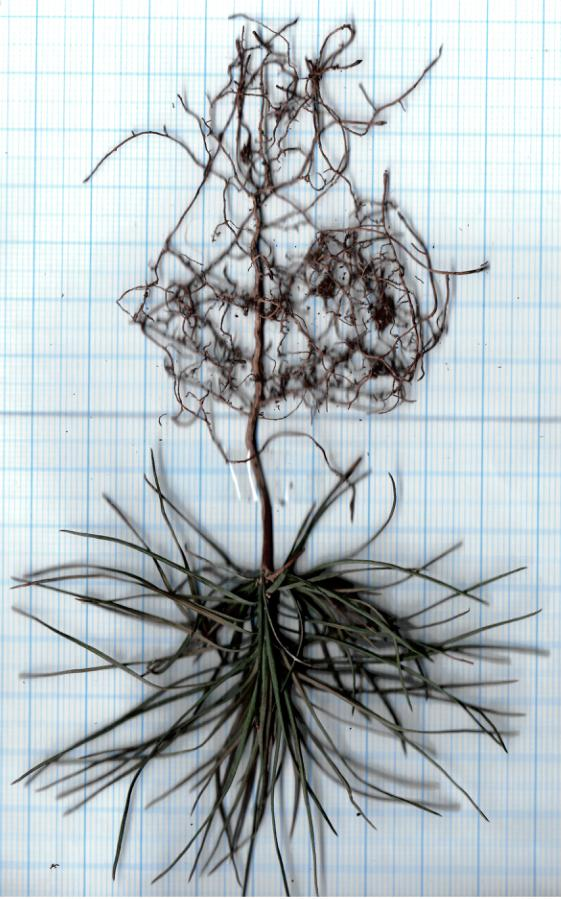flower: (8, 502, 550, 887)
root: (118, 15, 462, 433)
stem: (240, 423, 282, 563)
